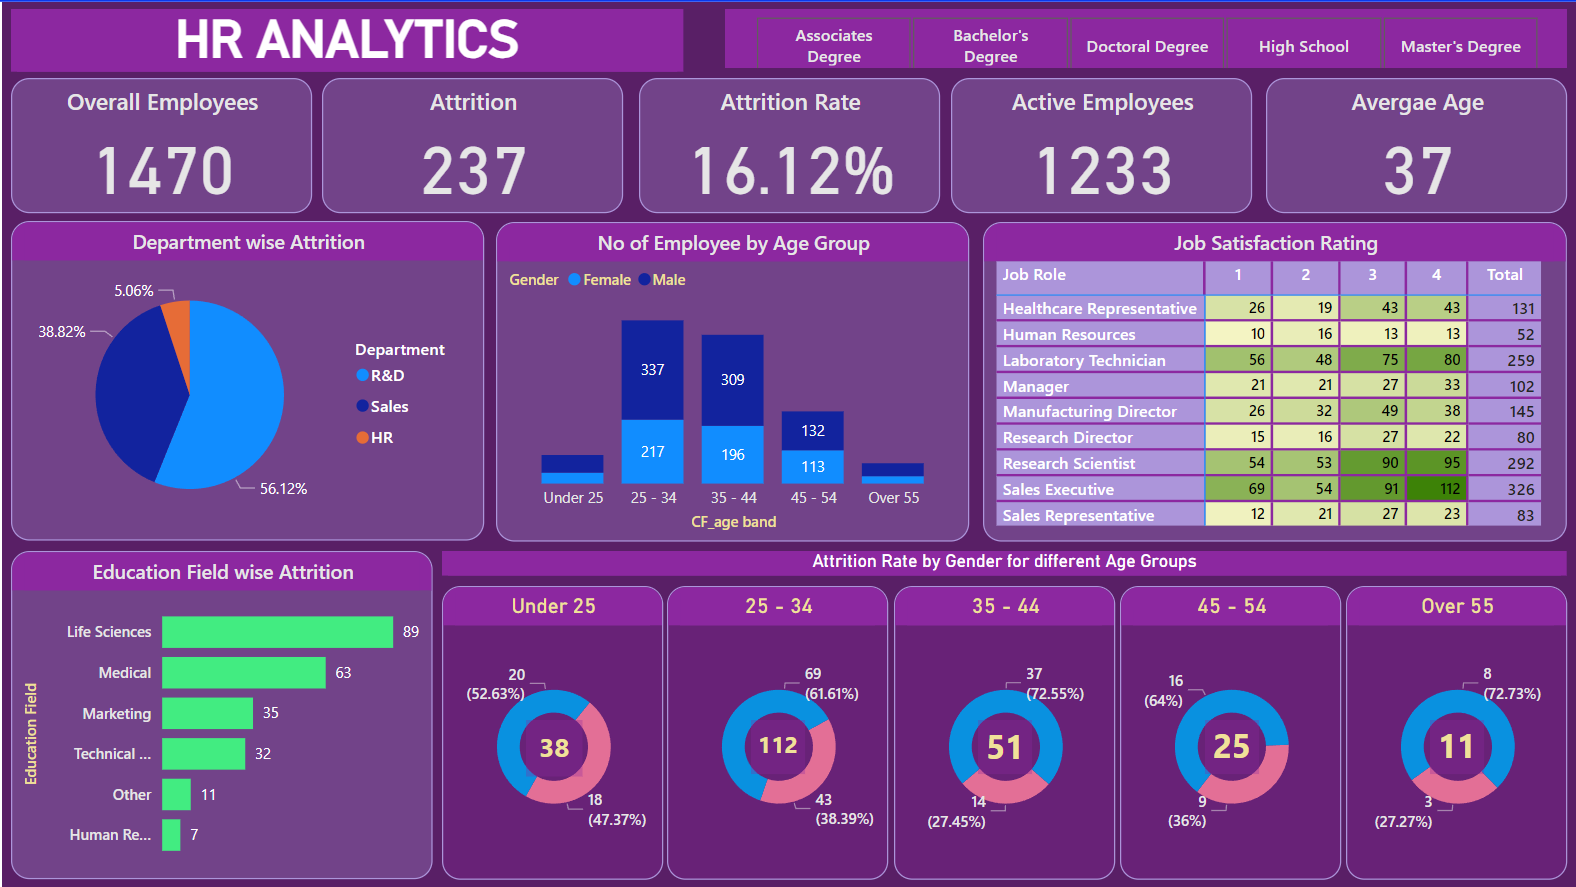

What the dashboard file says about the page in this screenshot:
{"tool":"powerbi","page":{"name":"Page 1","canvas":[1280,720],"ordinal":0},"visuals":[{"type":"card","title":"Overall Employees","fields":{"Values":["Sum(HR data.Employee Count)"]},"box":[7.1,62.2,244.7,110],"z":0},{"type":"card","title":"Attrition","fields":{"Values":["Sum(HR data.Attrition Count)"]},"box":[260.7,62.2,244.7,110],"z":1000},{"type":"card","title":"Attrition Rate","fields":{"Values":["Key Measures.Attrition_rate"]},"box":[517.8,62.2,244.7,110],"z":2000},{"type":"card","title":"Active Employees","fields":{"Values":["Key Measures.Active Employees"]},"box":[772.3,62.1,244.7,110],"z":3000},{"type":"card","title":"Avergae Age","fields":{"Values":["Avg(HR data.Age)"]},"box":[1028.6,62.2,245,110],"z":4000},{"type":"pieChart","title":"Department wise Attrition","fields":{"Category":["HR data.Department"],"Y":["Sum(HR data.Attrition Count)"]},"box":[7.1,178.3,384.8,259.8],"z":5000},{"type":"columnChart","title":"No of Employee by Age Group","fields":{"Category":["HR data.CF_age band"],"Y":["Sum(HR data.Employee Count)"],"Series":["HR data.Gender"]},"box":[401.7,179.2,384.8,259.8],"z":6000},{"type":"pivotTable","title":"Job Satisfaction Rating","fields":{"Rows":["HR data.Job Role"],"Columns":["HR data.Job Satisfaction"],"Values":["Sum(HR data.Employee Count)"]},"box":[798,179.2,475.3,259.8],"z":7000},{"type":"barChart","title":"Education Field wise Attrition","fields":{"Category":["HR data.Education Field"],"Y":["Sum(HR data.Attrition Count)"]},"box":[7.1,446.9,343.2,266.9],"z":8000},{"type":"donutChart","title":"Under 25","fields":{"Category":["HR data.Gender"],"Y":["Sum(HR data.Attrition Count)"],"Series":["HR data.CF_age band"]},"box":[358.2,475.3,180,238.5],"z":9000},{"type":"textbox","title":"Attrition Rate by Gender for different Age Groups","box":[358.2,446.9,915.1,20.4],"z":10000},{"type":"donutChart","title":"35 - 44","fields":{"Category":["HR data.Gender"],"Y":["Sum(HR data.Attrition Count)"],"Series":["HR data.CF_age band"]},"box":[725.3,475.3,180,238.5],"z":11000},{"type":"donutChart","title":"25 - 34","fields":{"Category":["HR data.Gender"],"Y":["Sum(HR data.Attrition Count)"],"Series":["HR data.CF_age band"]},"box":[540.9,475.3,180,238.5],"z":12000},{"type":"donutChart","title":"45 - 54","fields":{"Category":["HR data.Gender"],"Y":["Sum(HR data.Attrition Count)"],"Series":["HR data.CF_age band"]},"box":[909.8,475.3,180,238.5],"z":13000},{"type":"donutChart","title":"Over 55","fields":{"Category":["HR data.Gender"],"Y":["Sum(HR data.Attrition Count)"],"Series":["HR data.CF_age band"]},"box":[1093.3,475.3,180,238.5],"z":14000},{"type":"card","fields":{"Values":["Sum(HR data.Attrition Count)"]},"box":[426.5,584.3,46.1,46.1],"z":14001},{"type":"card","fields":{"Values":["Sum(HR data.Attrition Count)"]},"box":[609.2,584.4,43.7,43.7],"z":14002},{"type":"card","fields":{"Values":["Sum(HR data.Attrition Count)"]},"box":[793.8,584.4,44,44],"z":14003},{"type":"card","fields":{"Values":["Sum(HR data.Attrition Count)"]},"box":[978.4,584.4,43.7,43.7],"z":14004},{"type":"card","fields":{"Values":["Sum(HR data.Attrition Count)"]},"box":[1161.9,584.4,43.7,43.7],"z":14005},{"type":"textbox","title":"HR ANALYTICS DASHBOARD","box":[7.1,5.3,547.1,51.4],"z":14006},{"type":"slicer","fields":{"Values":["HR data.Education"]},"box":[587.9,5.3,685.4,47.9],"z":14007}]}

Visuals, with their boxes in screenshot pixels (x1, y1, x2, y2), scaled from the page's 1280x720 canvas onto the 1576x887 screenshot:
"Overall Employees" card: x1=9, y1=77, x2=310, y2=212
"Attrition" card: x1=321, y1=77, x2=622, y2=212
"Attrition Rate" card: x1=638, y1=77, x2=939, y2=212
"Active Employees" card: x1=951, y1=77, x2=1252, y2=212
"Avergae Age" card: x1=1266, y1=77, x2=1568, y2=212
"Department wise Attrition" pieChart: x1=9, y1=220, x2=483, y2=540
"No of Employee by Age Group" columnChart: x1=495, y1=221, x2=968, y2=541
"Job Satisfaction Rating" pivotTable: x1=983, y1=221, x2=1568, y2=541
"Education Field wise Attrition" barChart: x1=9, y1=551, x2=431, y2=879
"Under 25" donutChart: x1=441, y1=586, x2=663, y2=879
"Attrition Rate by Gender for different Age Groups" textbox: x1=441, y1=551, x2=1568, y2=576
"35 - 44" donutChart: x1=893, y1=586, x2=1115, y2=879
"25 - 34" donutChart: x1=666, y1=586, x2=888, y2=879
"45 - 54" donutChart: x1=1120, y1=586, x2=1342, y2=879
"Over 55" donutChart: x1=1346, y1=586, x2=1568, y2=879
card - Sum(HR data.Attrition Count): x1=525, y1=720, x2=582, y2=777
card - Sum(HR data.Attrition Count): x1=750, y1=720, x2=804, y2=774
card - Sum(HR data.Attrition Count): x1=977, y1=720, x2=1032, y2=774
card - Sum(HR data.Attrition Count): x1=1205, y1=720, x2=1258, y2=774
card - Sum(HR data.Attrition Count): x1=1431, y1=720, x2=1484, y2=774
"HR ANALYTICS DASHBOARD" textbox: x1=9, y1=7, x2=682, y2=70
slicer - HR data.Education: x1=724, y1=7, x2=1568, y2=66
